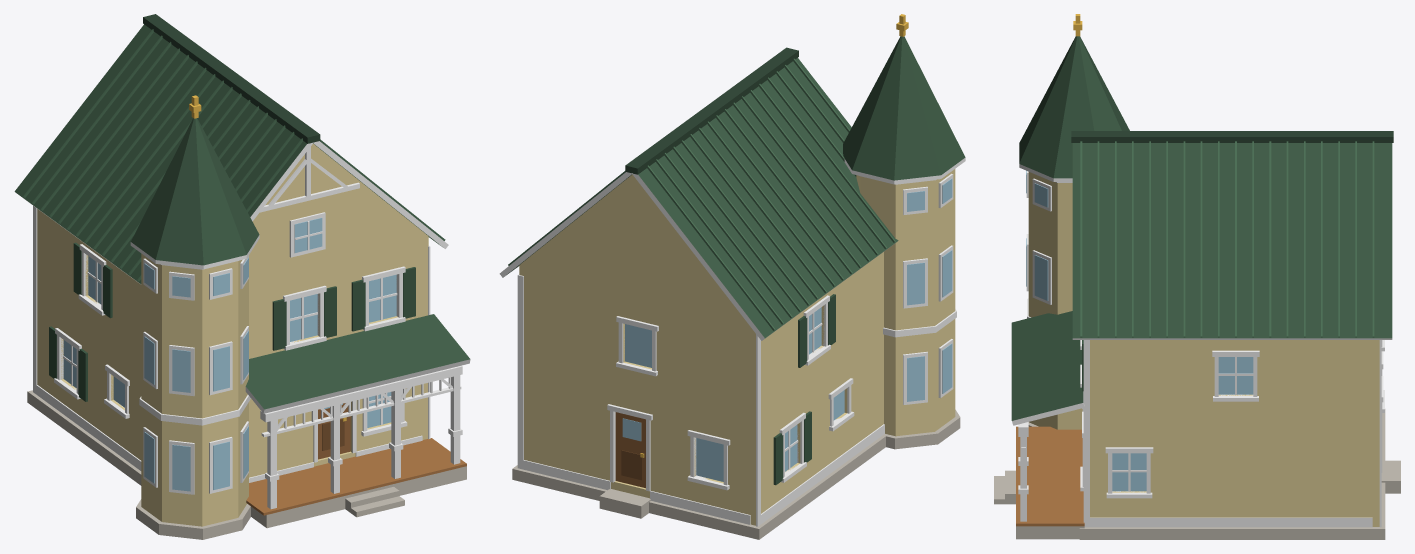
File: base-10-level1.glb
3 views of the same model, side by side, from view 1: azimuth 30°, elevation 25°; view 2: azimuth 150°, elevation 25°; view 3: azimuth 270°, elevation 25° (orthographic). The views are drawn at different scales.
Visible parts, largest first — view 1: base_house_10_finished; view 2: base_house_10_finished; view 3: base_house_10_finished.
Boxes of the visible parts, x1,y1,x2,y2 form: base_house_10_finished: (14,14,470,539); base_house_10_finished: (499,14,965,539); base_house_10_finished: (994,14,1400,539).
Bounding box in the file's own units: 9.99 × 13.15 × 11.84.
